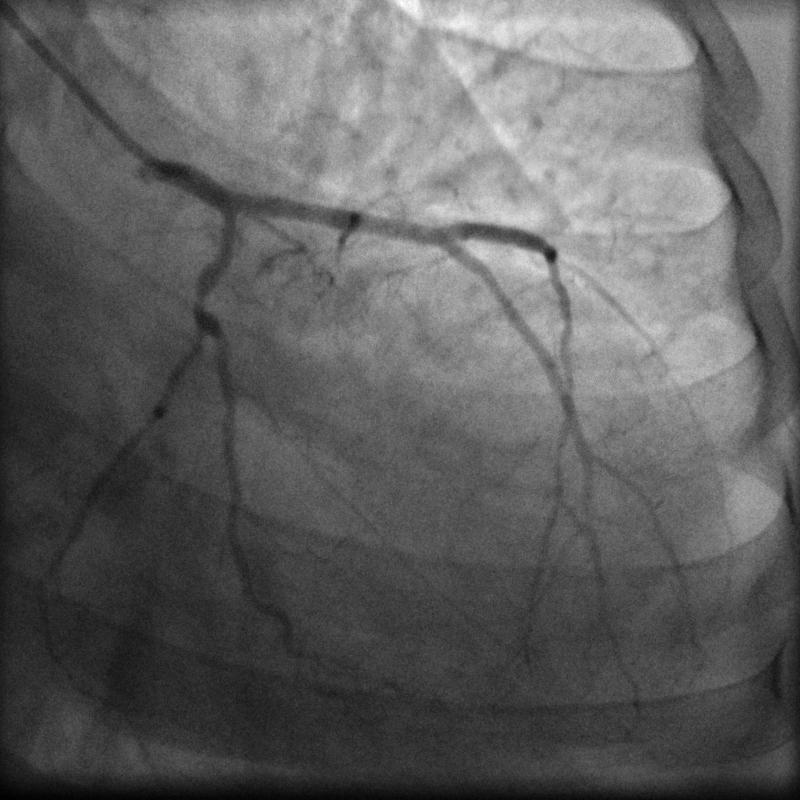Stenosis: (185, 269, 224, 324)
